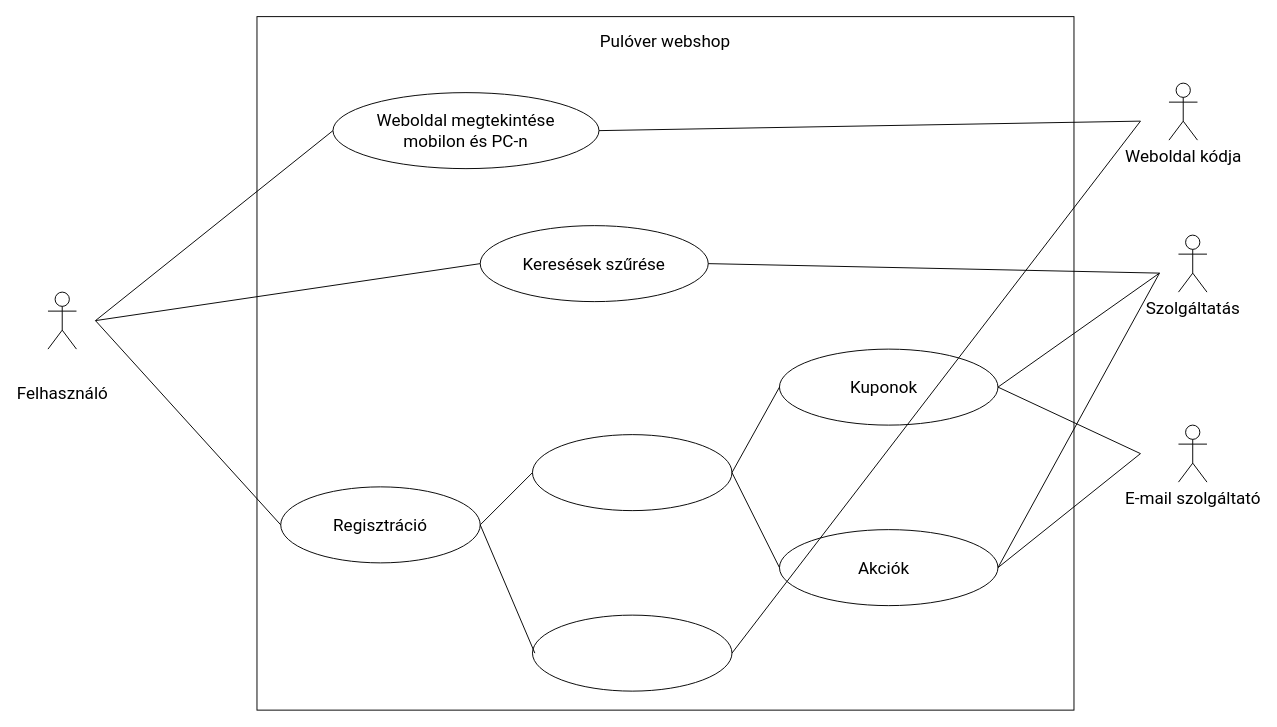
The diagram is 1277 pixels wide and 727 high, and some of its shapes have lost their labels. Here are the shapes that lost their labels. From the top down, the centre of each, then its label:
At [632,472]: "Hírlevelek".
At [632,652]: "ÁSZF és adatkezelési tájékoztatás megnézése".
